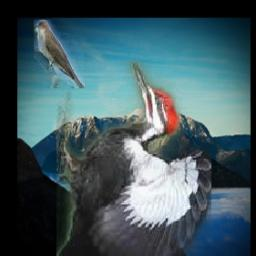Cuckoo: (34, 20, 85, 88)
Woodpecker: (56, 60, 211, 256)
